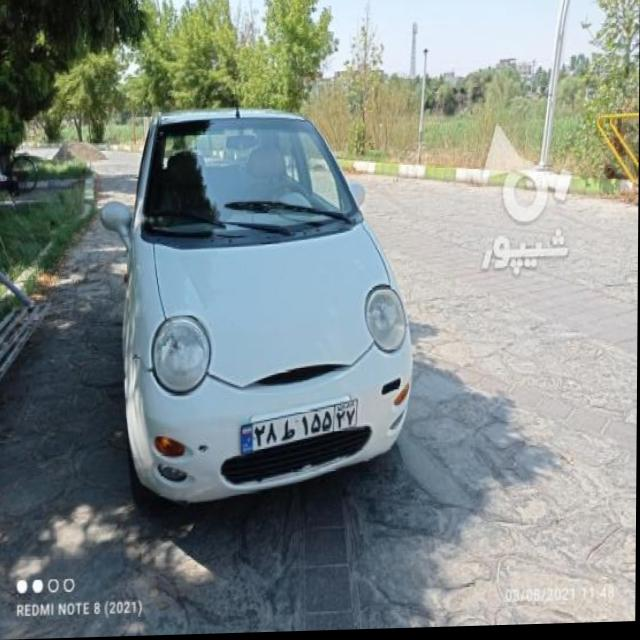licence: (238, 395, 356, 454)
